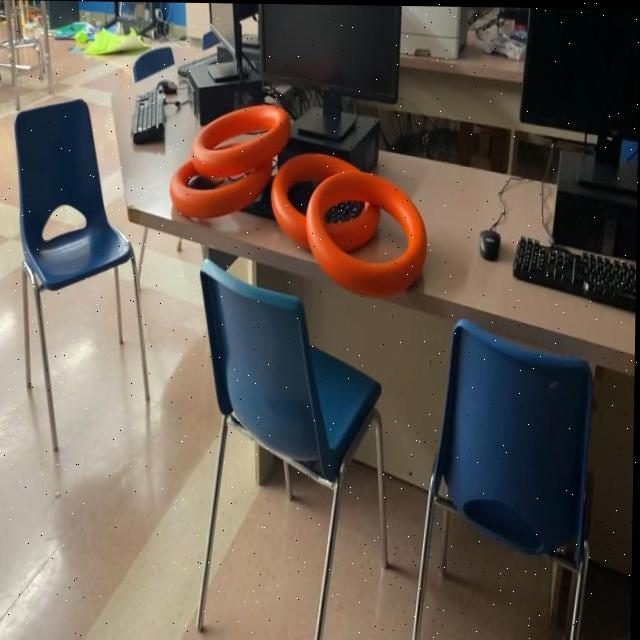note: (308, 168, 429, 296), (272, 149, 383, 250), (168, 140, 272, 222), (190, 101, 292, 179)
